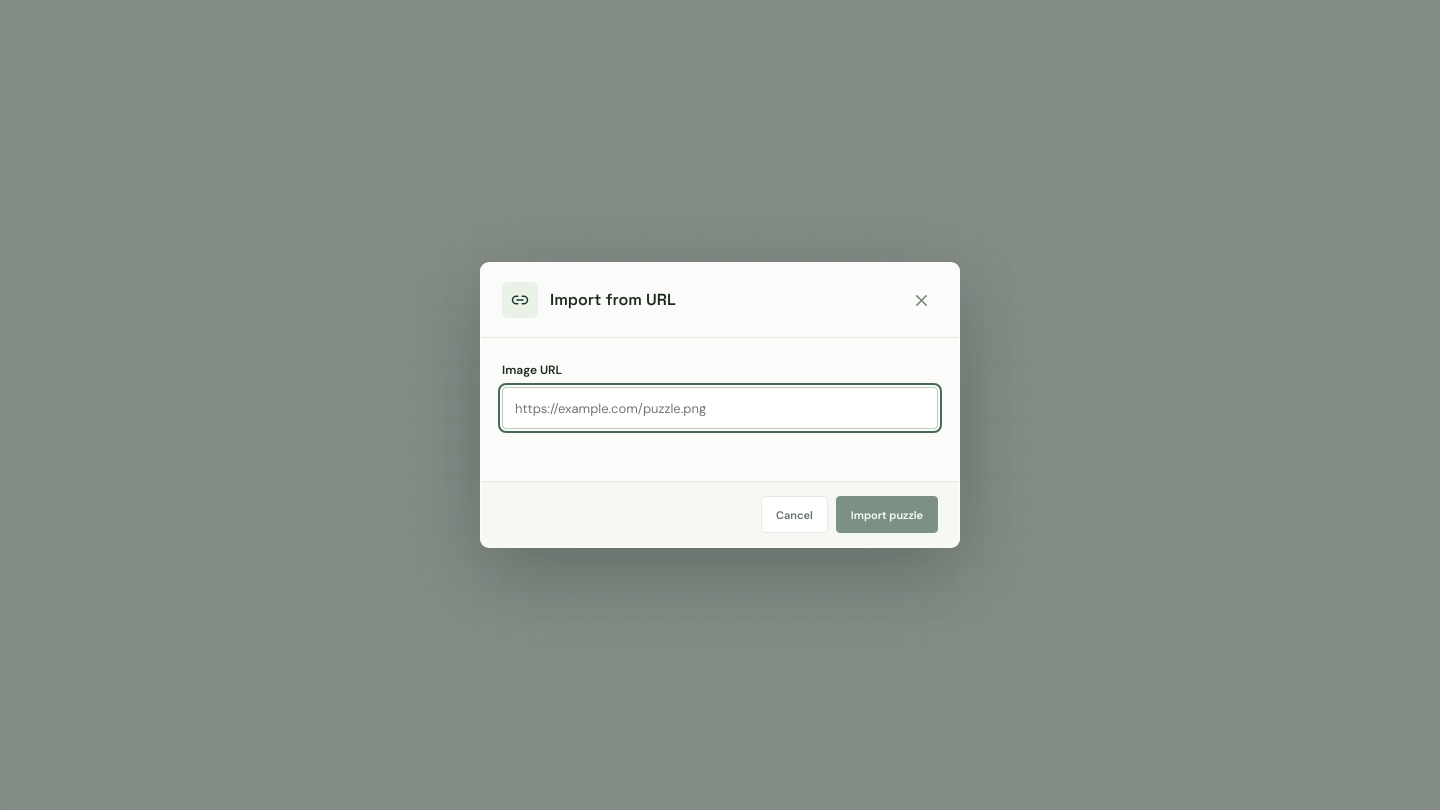
Test case: rejects invalid URL not a url before making a request
The width and height of the screenshot is (1440, 810).
In the field labelled "Image URL": (720, 408) [502, 387, 938, 429], type "not a url"
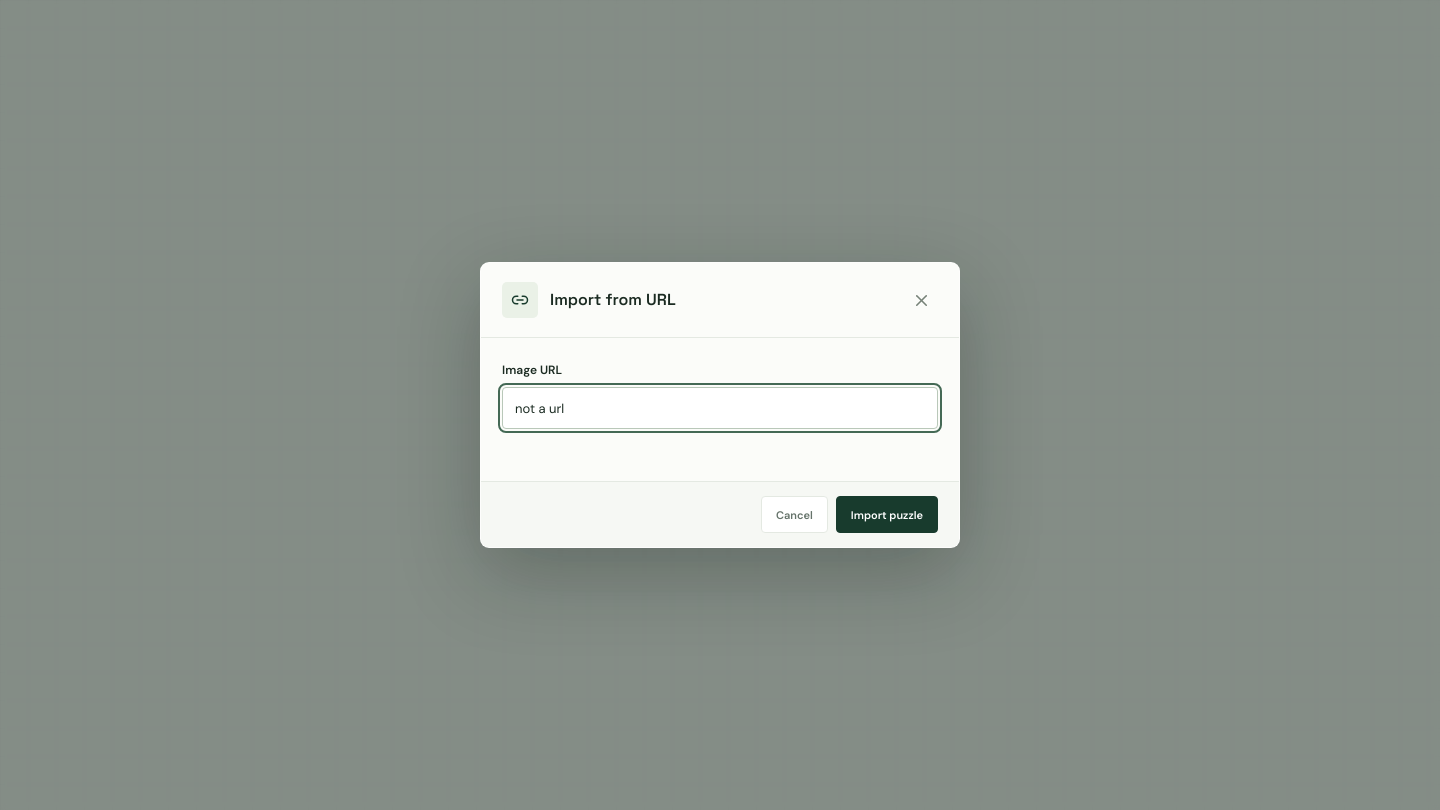
Click the button "Import puzzle": (887, 514) [836, 496, 938, 533]
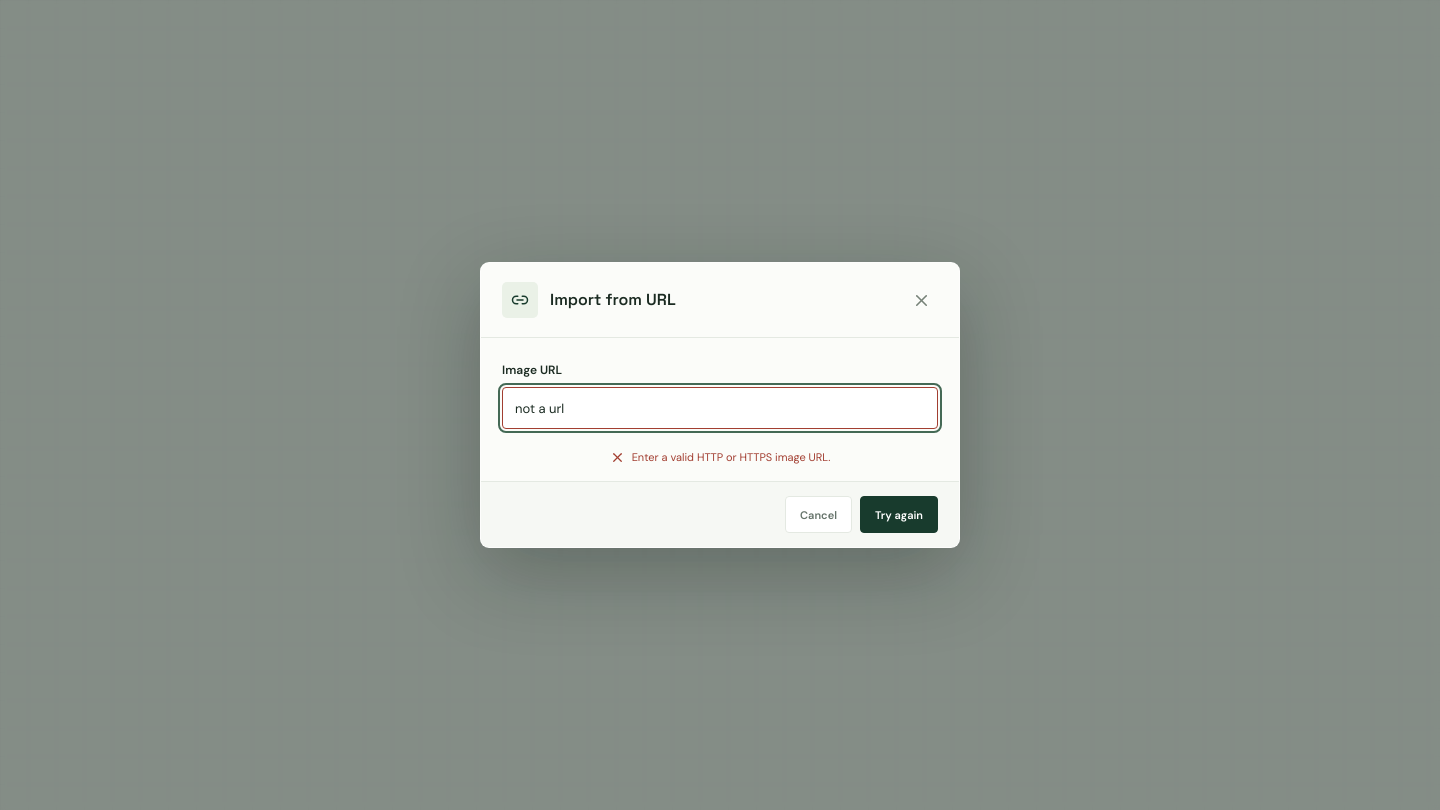
Check: the text "Enter a valid HTTP or HTTPS image URL." is shown, box [610, 450, 830, 464]
Replace the text in the field labelled "Image URL" with "https://images.test/puzzle.png": (720, 408) [502, 387, 938, 429]
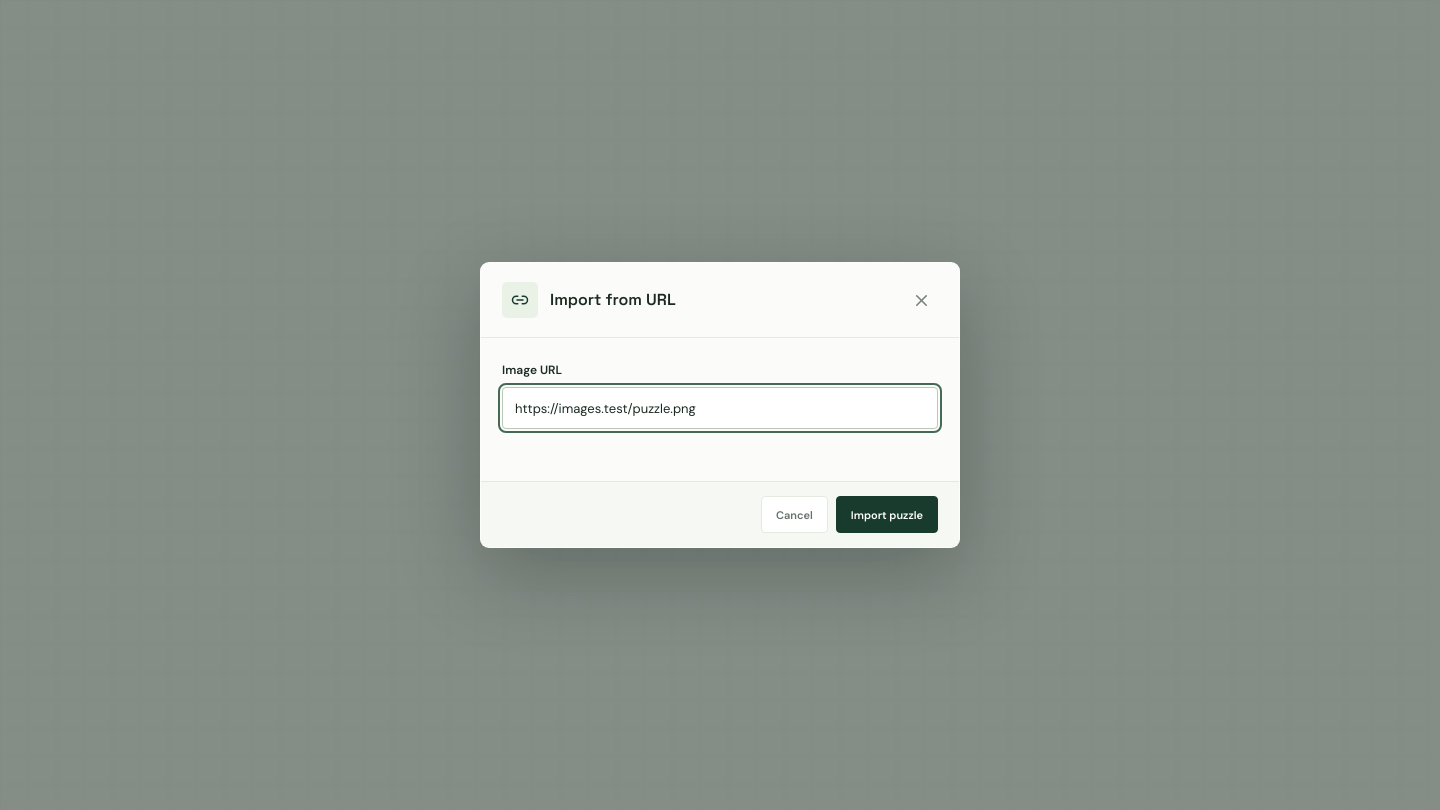
Check: the text "Enter a valid HTTP or HTTPS image URL." is gone
